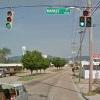Traffic light: (72, 2, 97, 45)
